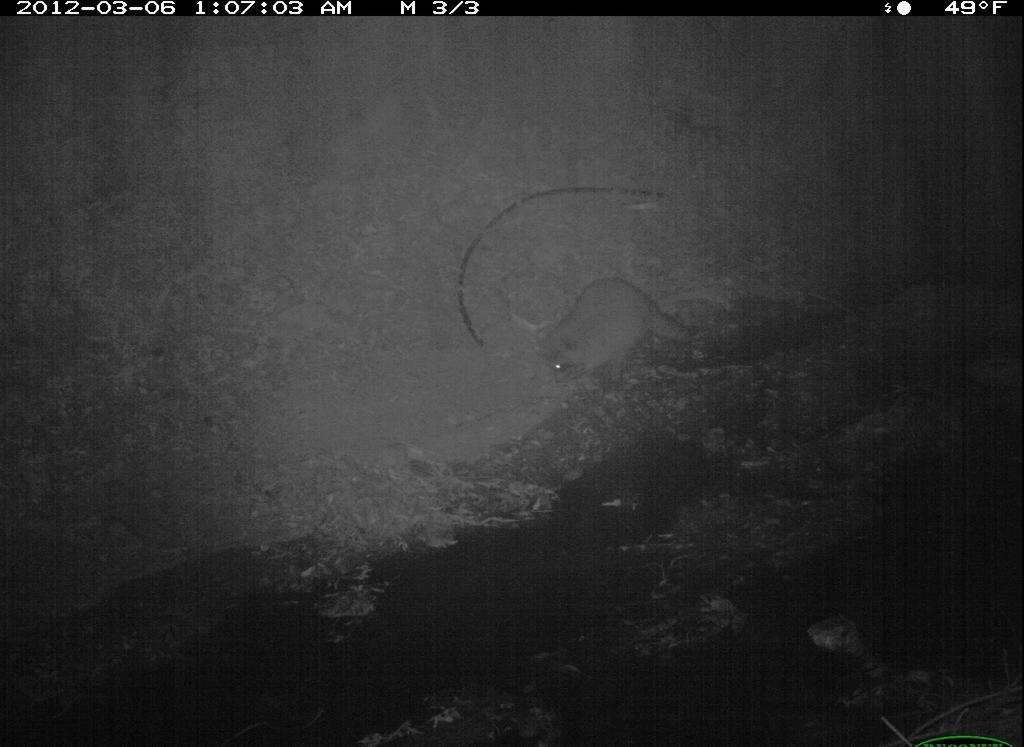raccoon: (541, 272, 698, 394)
